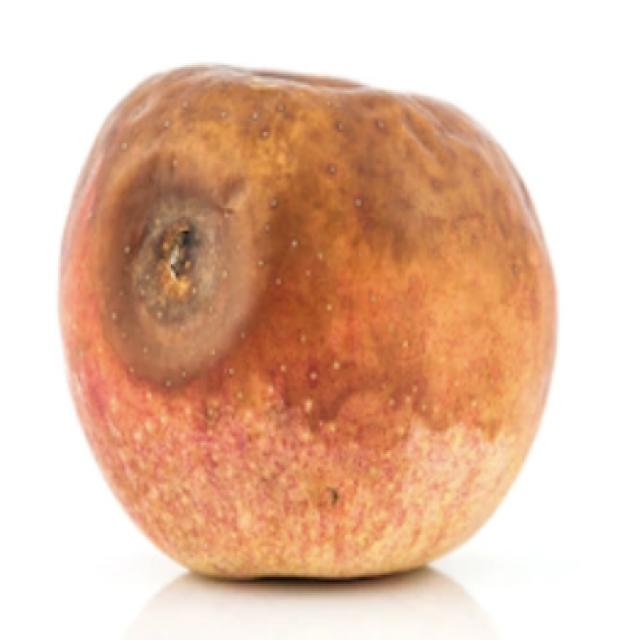rotten_apple: (58, 64, 555, 582)
